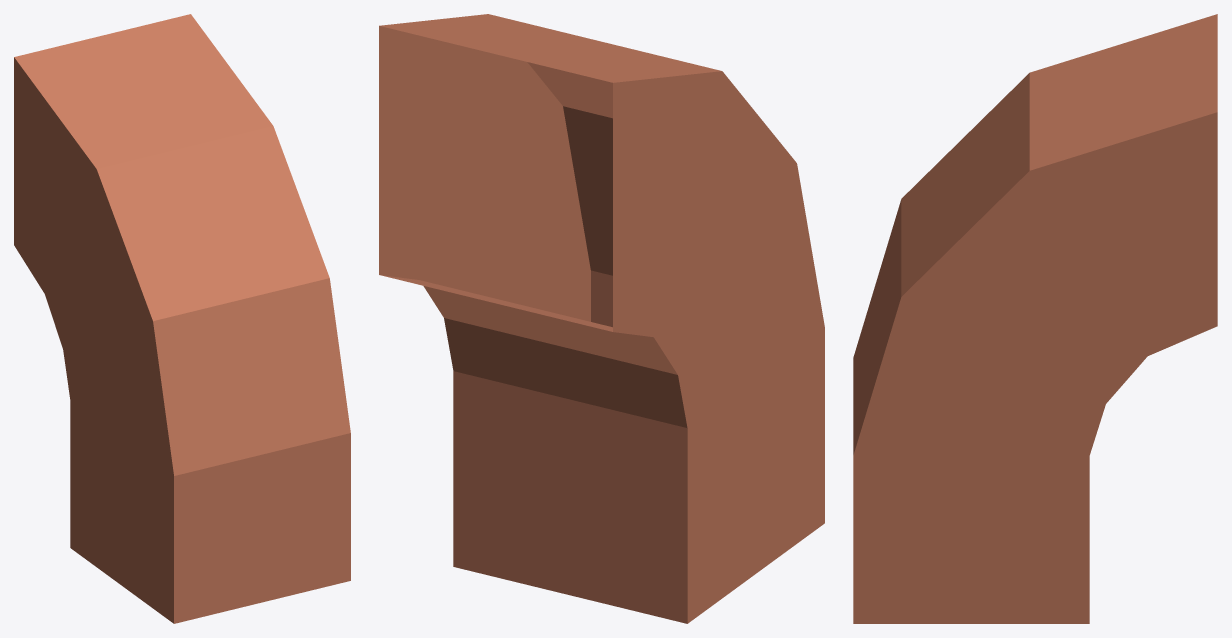
File: SM_Boiler_Pipe_03.fbx
3 views of the same model, side by side, from view 1: azimuth 30°, elevation 25°; view 2: azimuth 150°, elevation 25°; view 3: azimuth 270°, elevation 25° (orthographic). The views are drawn at different scales.
Visible parts, largest first — view 1: SM_Boiler_Pipe_03; view 2: SM_Boiler_Pipe_03; view 3: SM_Boiler_Pipe_03.
Boxes of the visible parts, bbox=[...] form: SM_Boiler_Pipe_03: bbox=[14, 14, 350, 623]; SM_Boiler_Pipe_03: bbox=[379, 14, 824, 623]; SM_Boiler_Pipe_03: bbox=[853, 14, 1217, 623].
Bounding box in the file's own units: 48.71 × 118 × 76.35.
